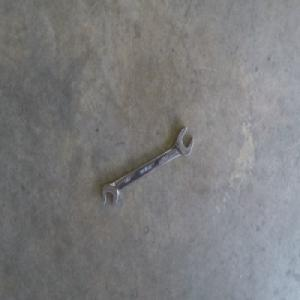Wrench: (102, 126, 194, 208)
